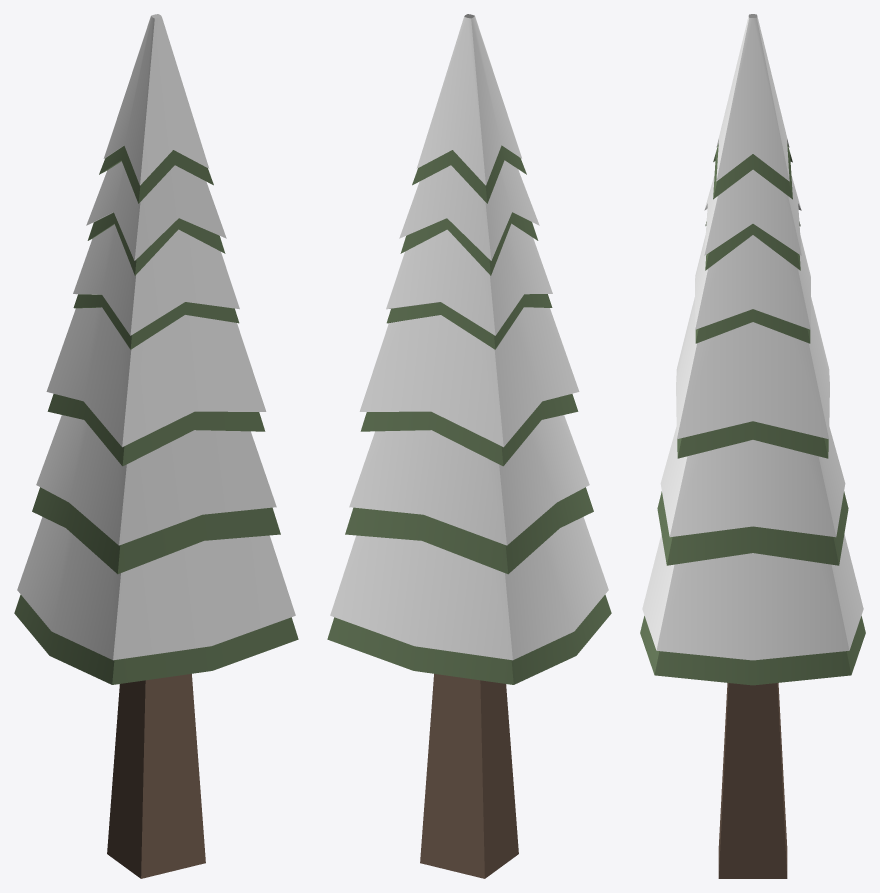
Rendered from snowtree.fbx.
The picture shows the model from 3 angles, left to right: view 1: azimuth 30°, elevation 25°; view 2: azimuth 150°, elevation 25°; view 3: azimuth 270°, elevation 25°; orthographic projection.
Visible parts, largest first — view 1: pCube41; view 2: pCube41; view 3: pCube41.
Boxes of the visible parts, box(x1,y1,x2,y2) form: pCube41: box(14, 14, 298, 878); pCube41: box(327, 14, 611, 878); pCube41: box(640, 14, 865, 878).
Bounding box in the file's own units: 92.24 × 347 × 83.87.
